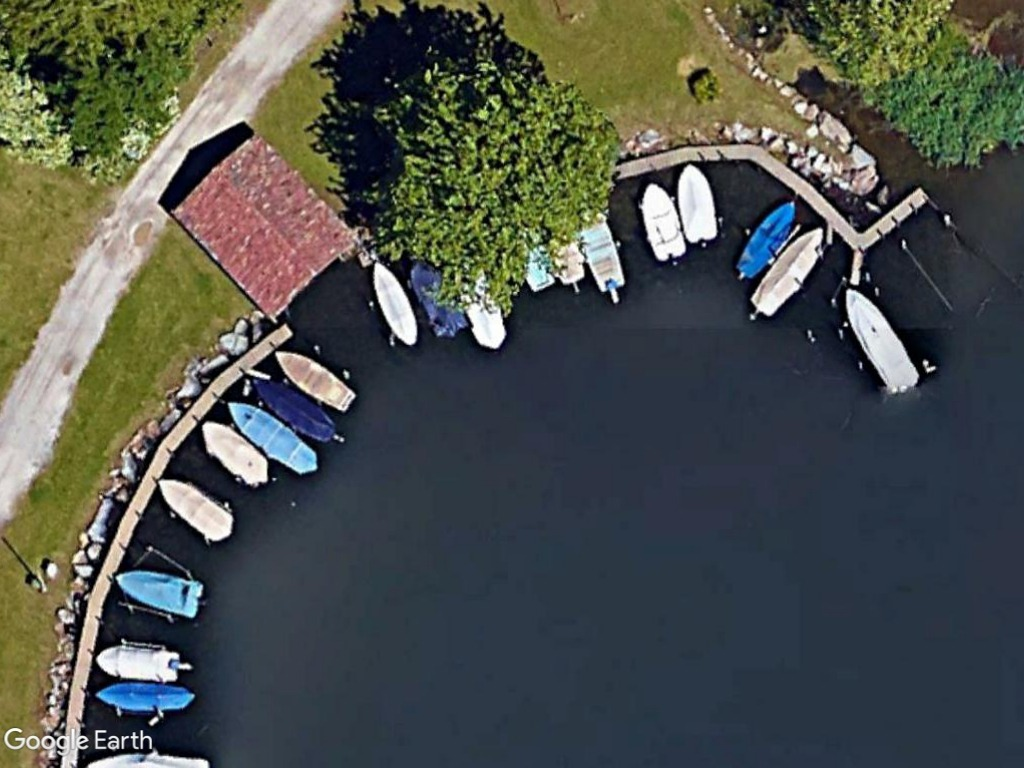boat: (841, 282, 922, 402), (220, 394, 324, 481), (744, 223, 828, 324), (237, 366, 342, 444), (271, 344, 362, 418), (732, 194, 802, 288), (153, 470, 237, 547), (198, 414, 277, 491), (365, 256, 422, 350), (110, 569, 205, 623), (638, 173, 688, 266), (91, 639, 185, 686), (675, 156, 722, 247), (91, 675, 197, 715)
